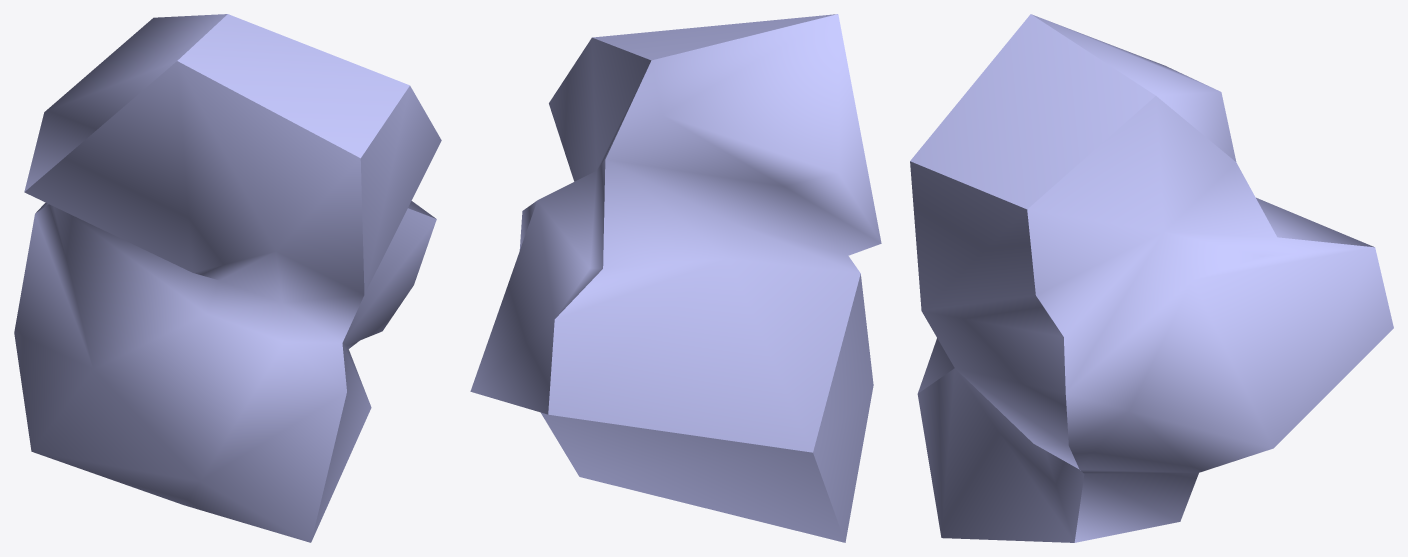
3 views of the same model, side by side, from view 1: azimuth 30°, elevation 25°; view 2: azimuth 150°, elevation 25°; view 3: azimuth 270°, elevation 25° (orthographic). The views are drawn at different scales.
Visible parts, largest first — view 1: Object21; view 2: Object21; view 3: Object21.
Boxes of the visible parts, left/top/right/bottom form: Object21: left=14, top=14, right=441, bottom=542; Object21: left=470, top=14, right=881, bottom=542; Object21: left=910, top=14, right=1393, bottom=542.
Size of the model in its own units: 116 by 140 by 128.
